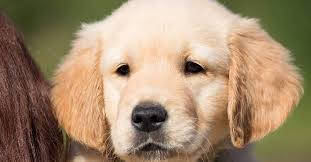Golden Retriever: (44, 1, 311, 159)
